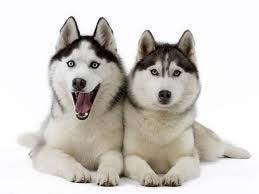husky: (36, 10, 127, 123), (118, 27, 208, 113)
